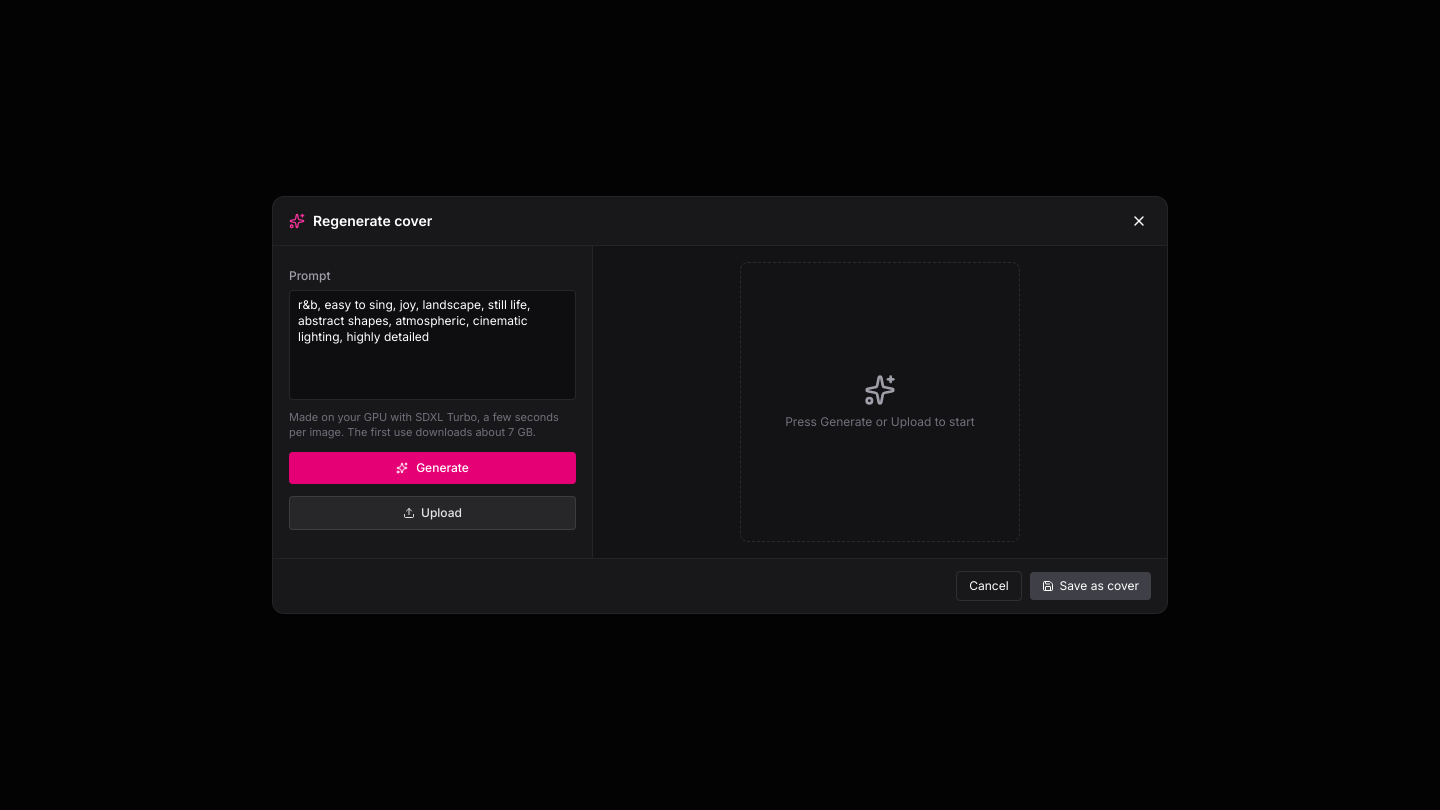
CoverRegenModal (local AI cover) › learns from the server that AI covers are unavailable
The width and height of the screenshot is (1440, 810).
Click the button "Generate".
click(432, 468)  # box [289, 452, 576, 484]
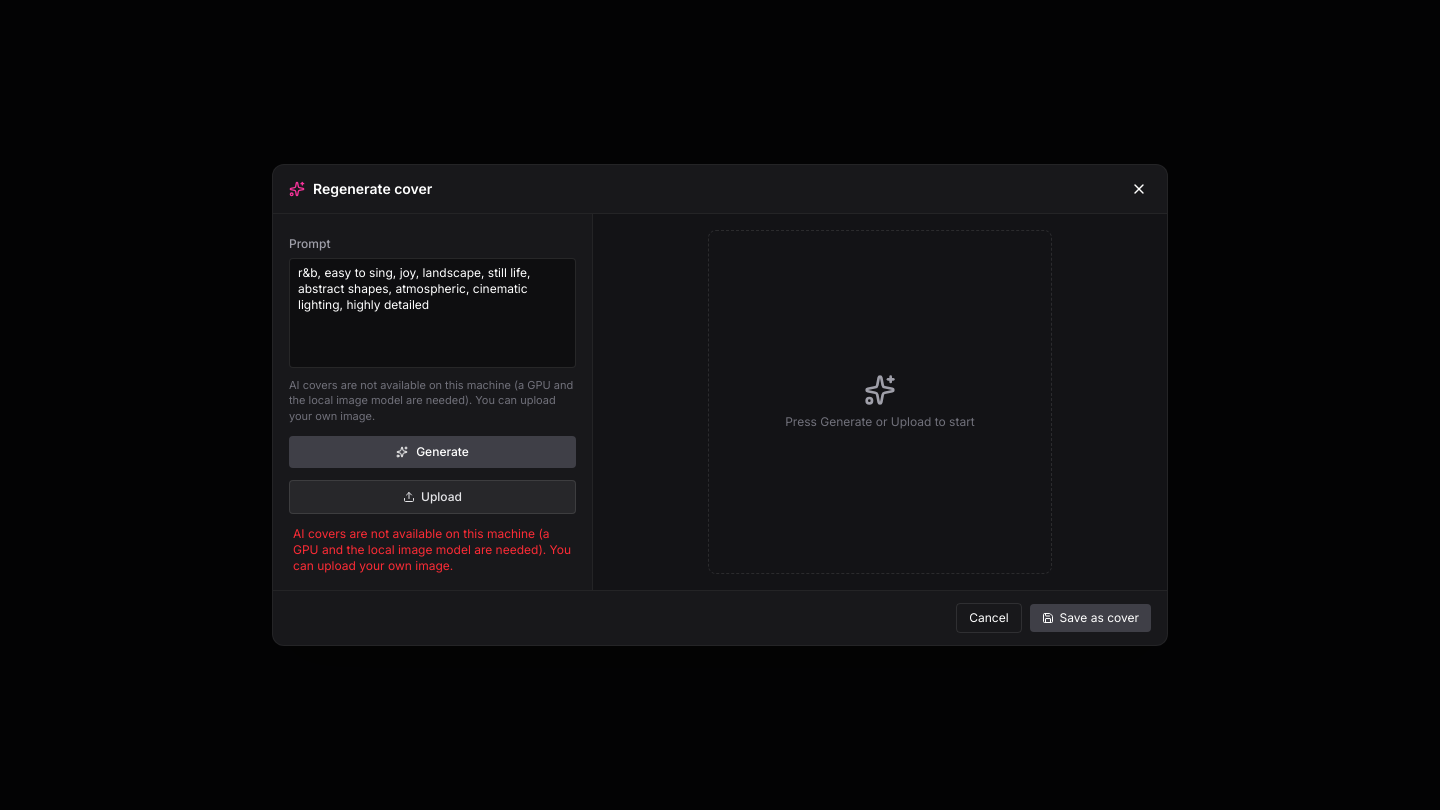
Now the text "AI covers are not available on this machine (a GPU and the local image model are needed). You can upload your own image." is shown, box [289, 378, 573, 423]
Now the button "Generate" is disabled, box [289, 436, 576, 468]
